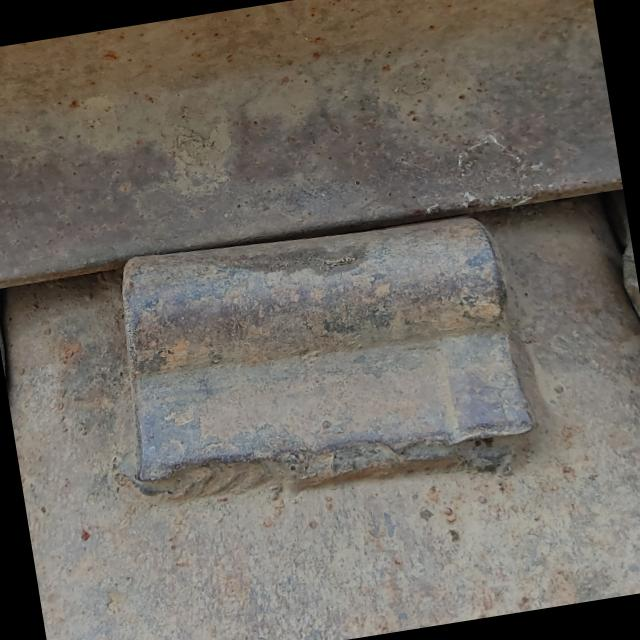track_bolt_missing: (105, 192, 522, 402)
